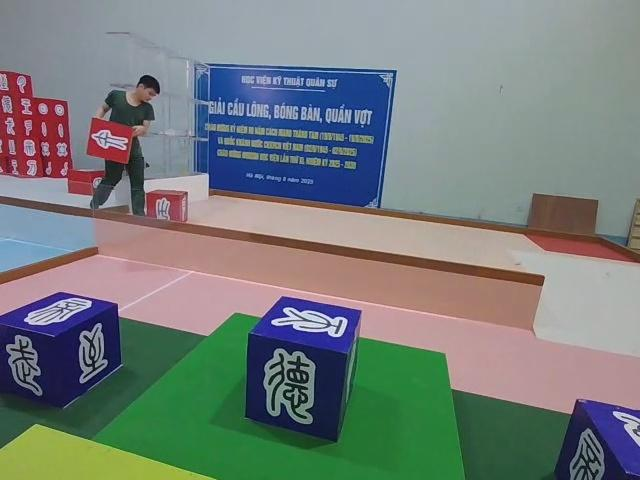R2 Fake Blue: (244, 298, 361, 443), (0, 292, 122, 409), (555, 400, 639, 480)
